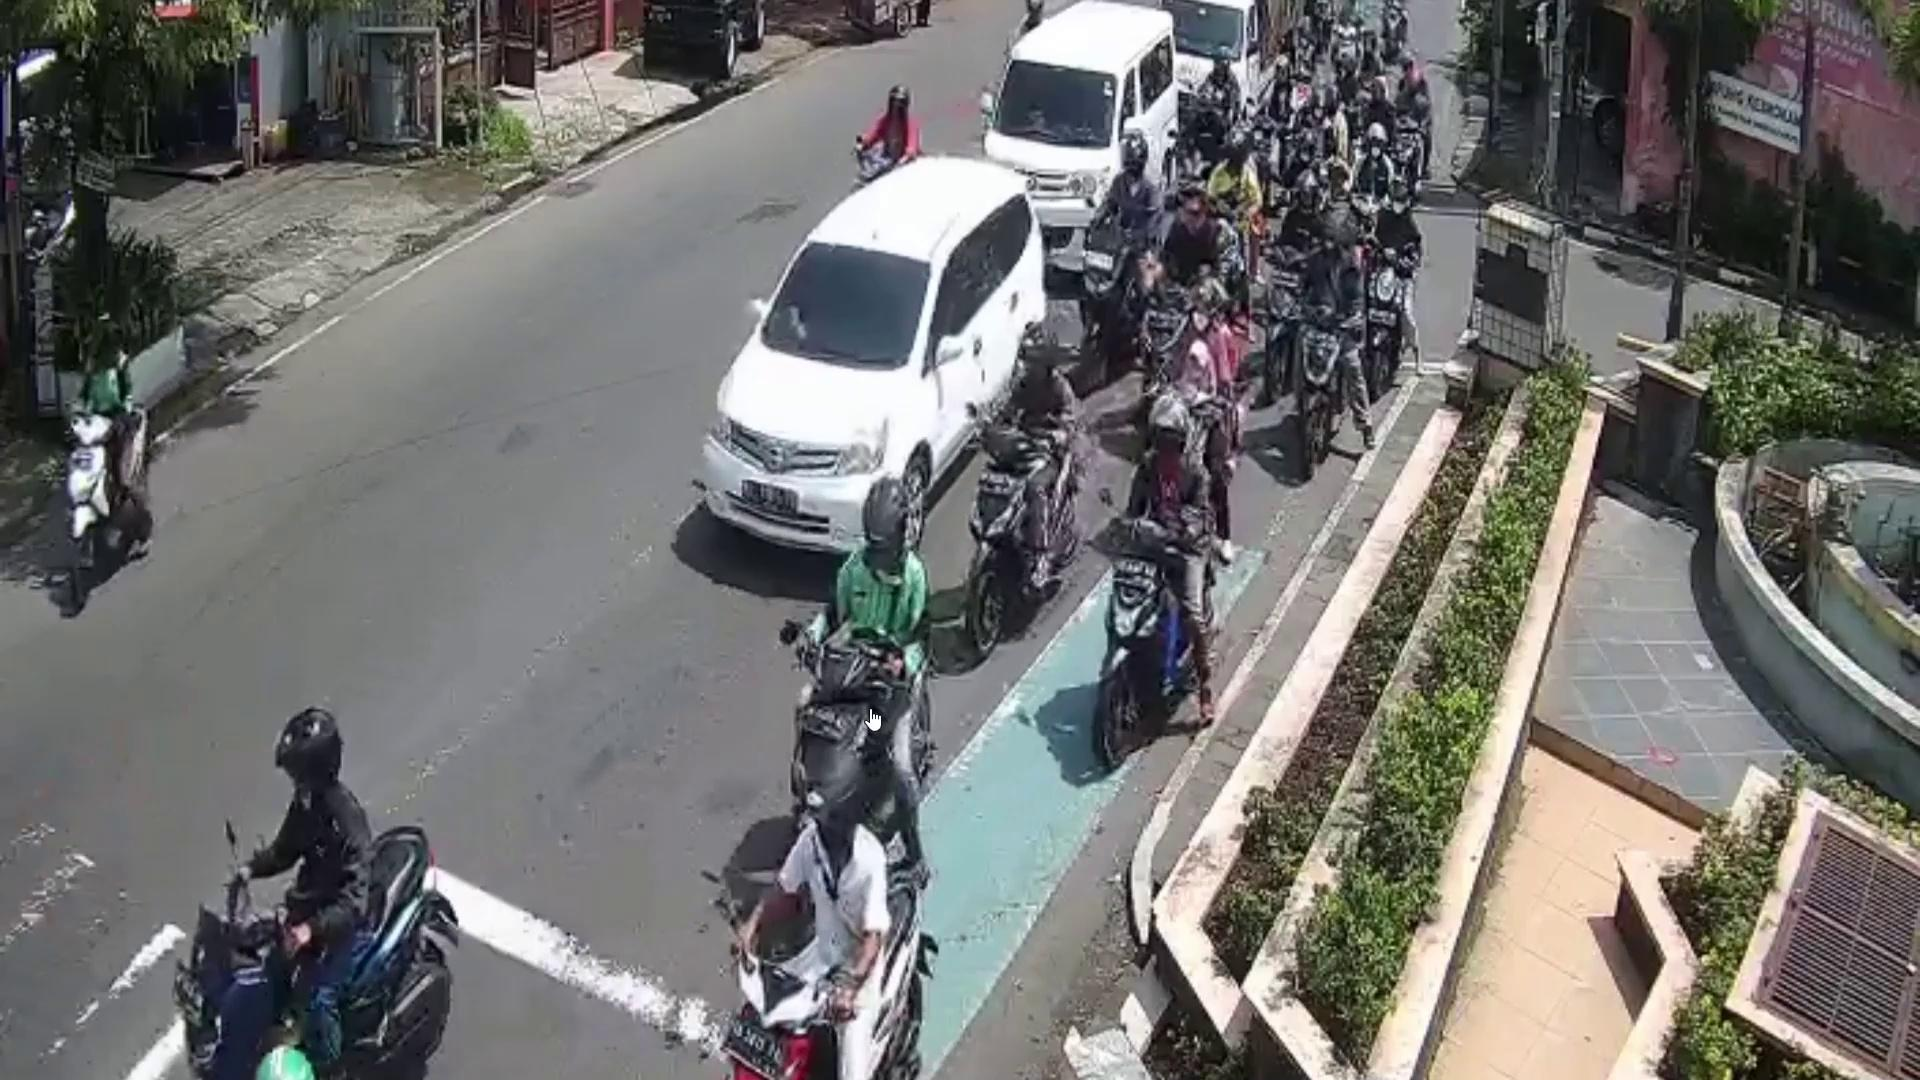car: (691, 157, 1047, 558), (989, 0, 1180, 273), (1163, 0, 1280, 112)
motorbike: (175, 827, 440, 1080), (725, 877, 923, 1080), (968, 417, 1077, 657), (1098, 526, 1191, 769), (793, 638, 882, 835), (66, 406, 152, 608), (1294, 310, 1350, 465), (1360, 248, 1410, 400)
